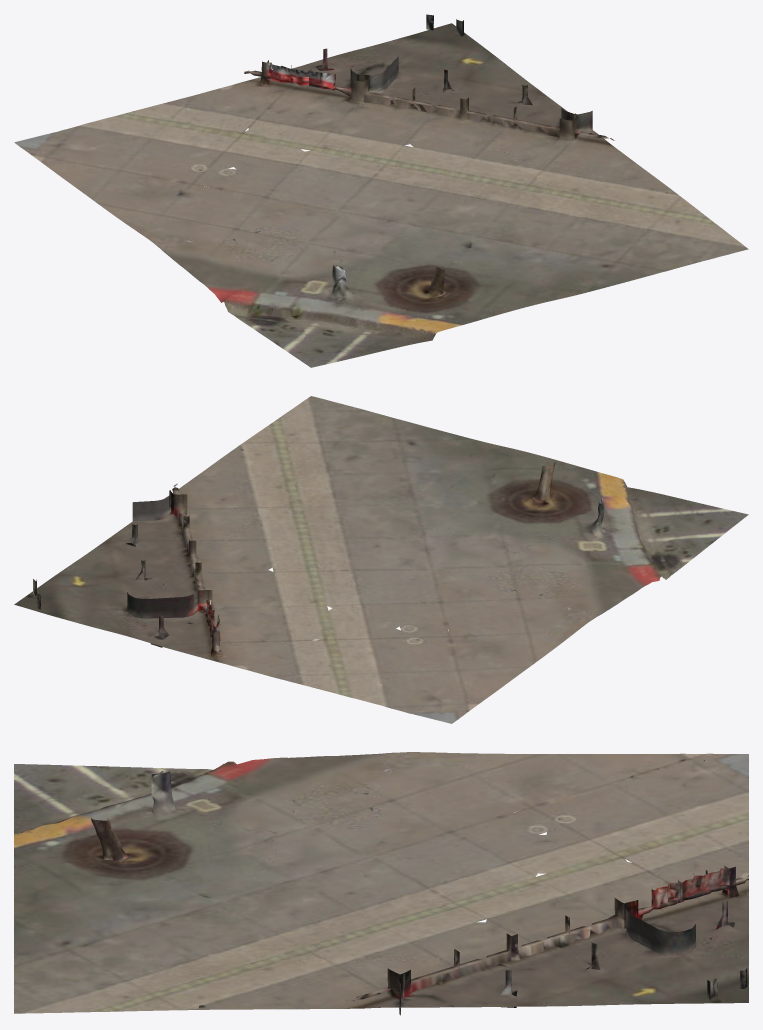
3 views of the same model, one above another, from view 1: azimuth 30°, elevation 25°; view 2: azimuth 150°, elevation 25°; view 3: azimuth 270°, elevation 25° (orthographic). The views are drawn at different scales.
Size of the model in its own units: 9.66 by 0.9311 by 11.35.
Materials: 1 (1 with a texture image).
